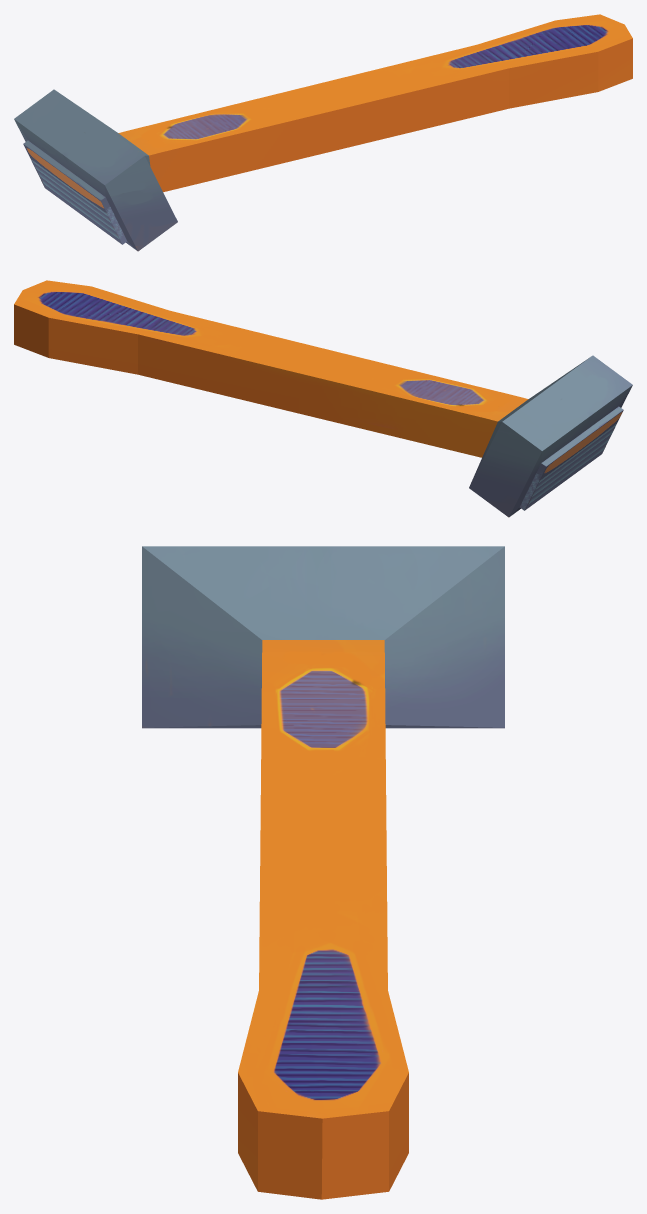
File: cuchillaNormal.fbx
3 renders of one model, top to bottom at view 1: azimuth 30°, elevation 25°; view 2: azimuth 150°, elevation 25°; view 3: azimuth 270°, elevation 25°, orthographic. The views are drawn at different scales.
Visible parts, largest first — view 1: Cube; view 2: Cube; view 3: Cube.
Boxes of the visible parts, box(x1,y1,x2,y2) form: Cube: box(14, 14, 632, 251); Cube: box(14, 280, 632, 517); Cube: box(142, 546, 504, 1199).
Size of the model in its own units: 14.38 by 2.29 by 4.
